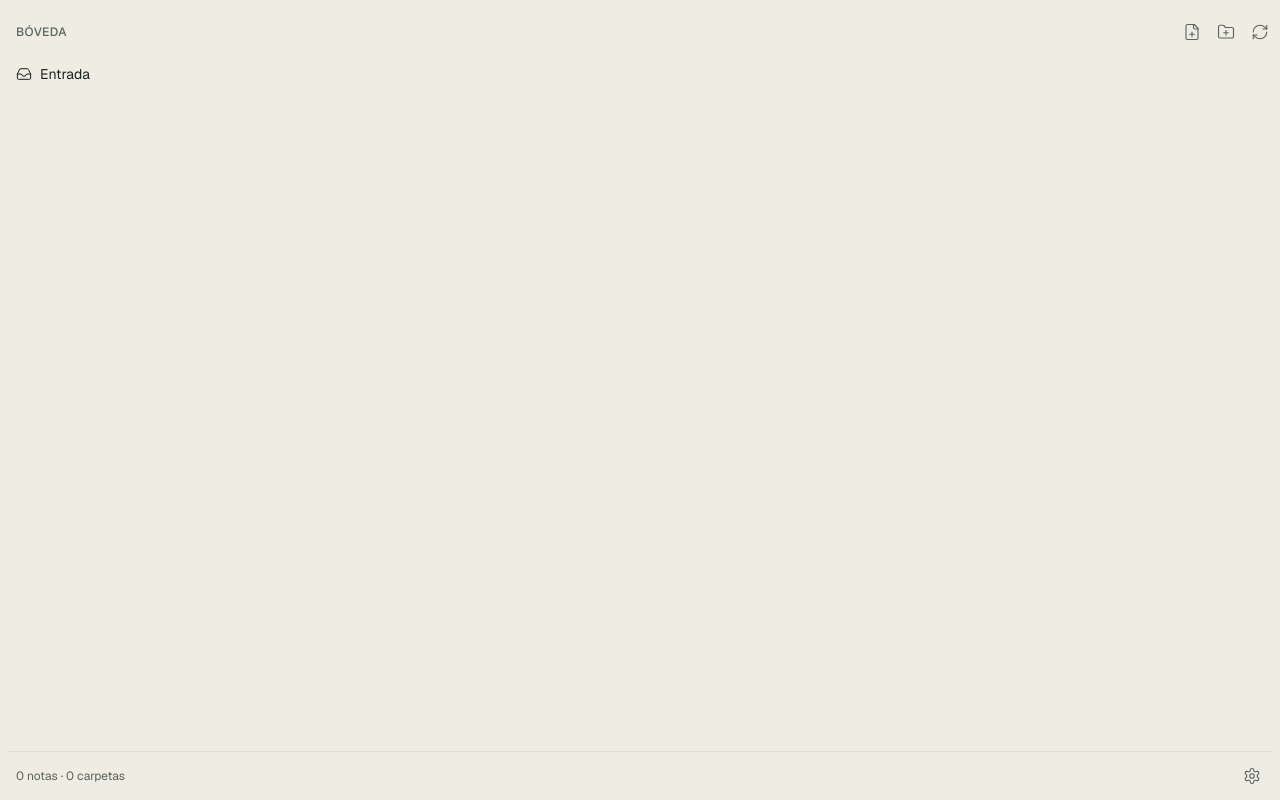
Test: creación de carpetas con nombre obligatorio › si el backend rechaza (already_exists), el diálogo muestra el error y sigue abierto
Step 1. Click the button with test id "new-folder-btn" → [1226, 32], box [1210,16,1242,48]
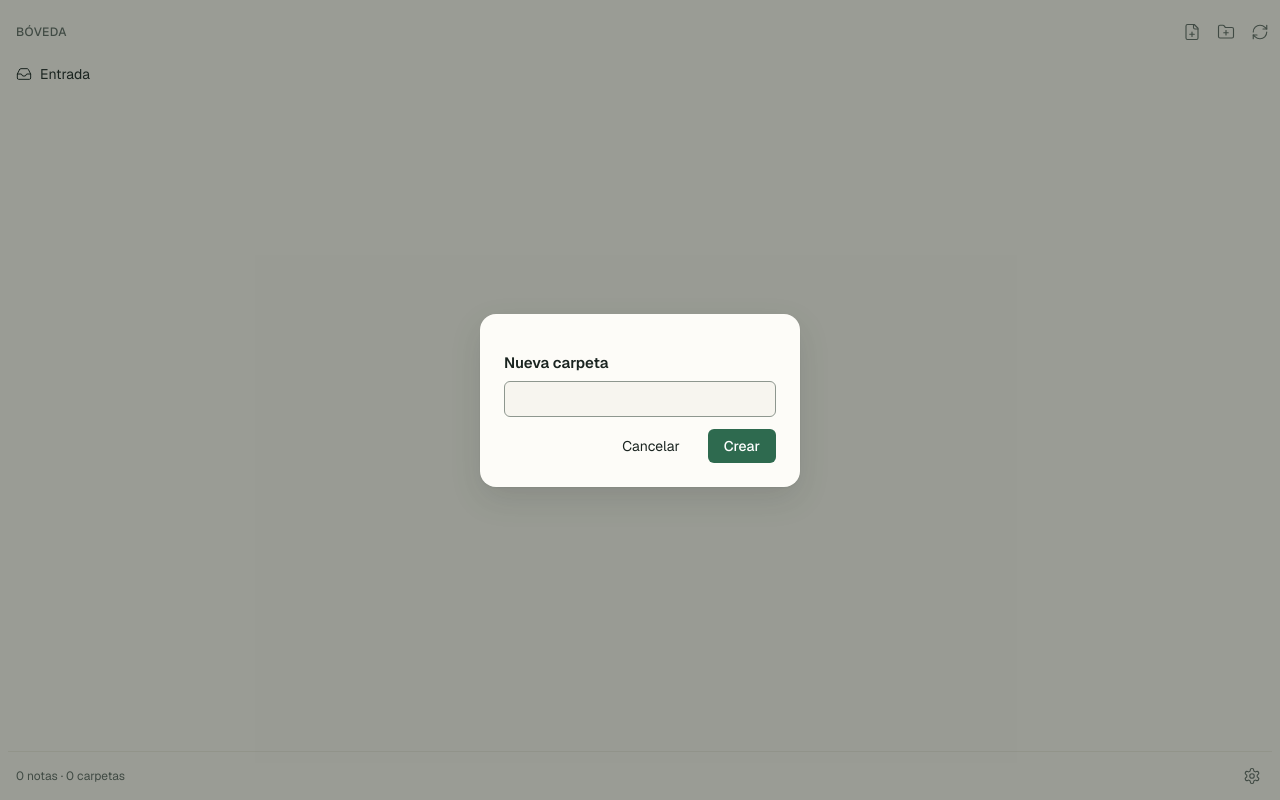
Step 2. Type "carpeta" into the field with test id "name-dialog-input" → [640, 398], box [504,380,776,416]
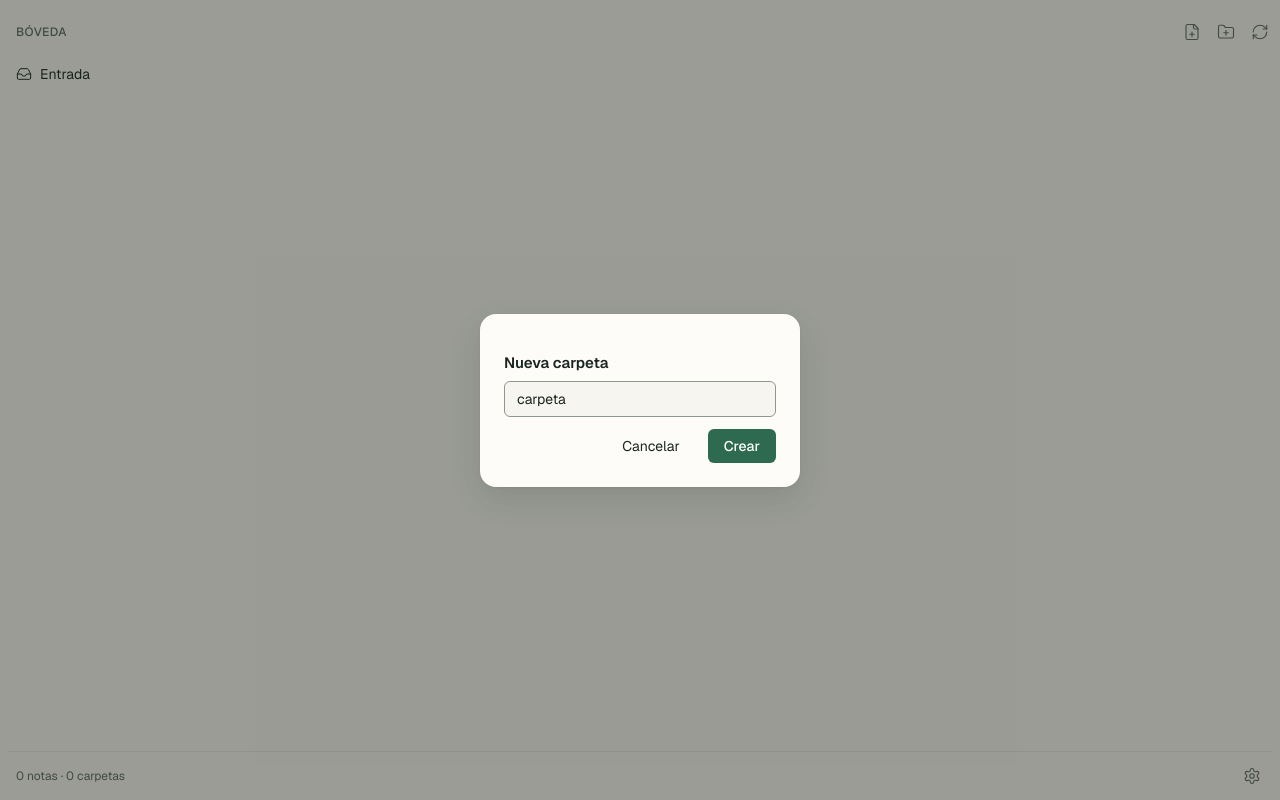
Step 3. Click the button with test id "name-dialog-submit" → [742, 446], box [708,428,776,462]
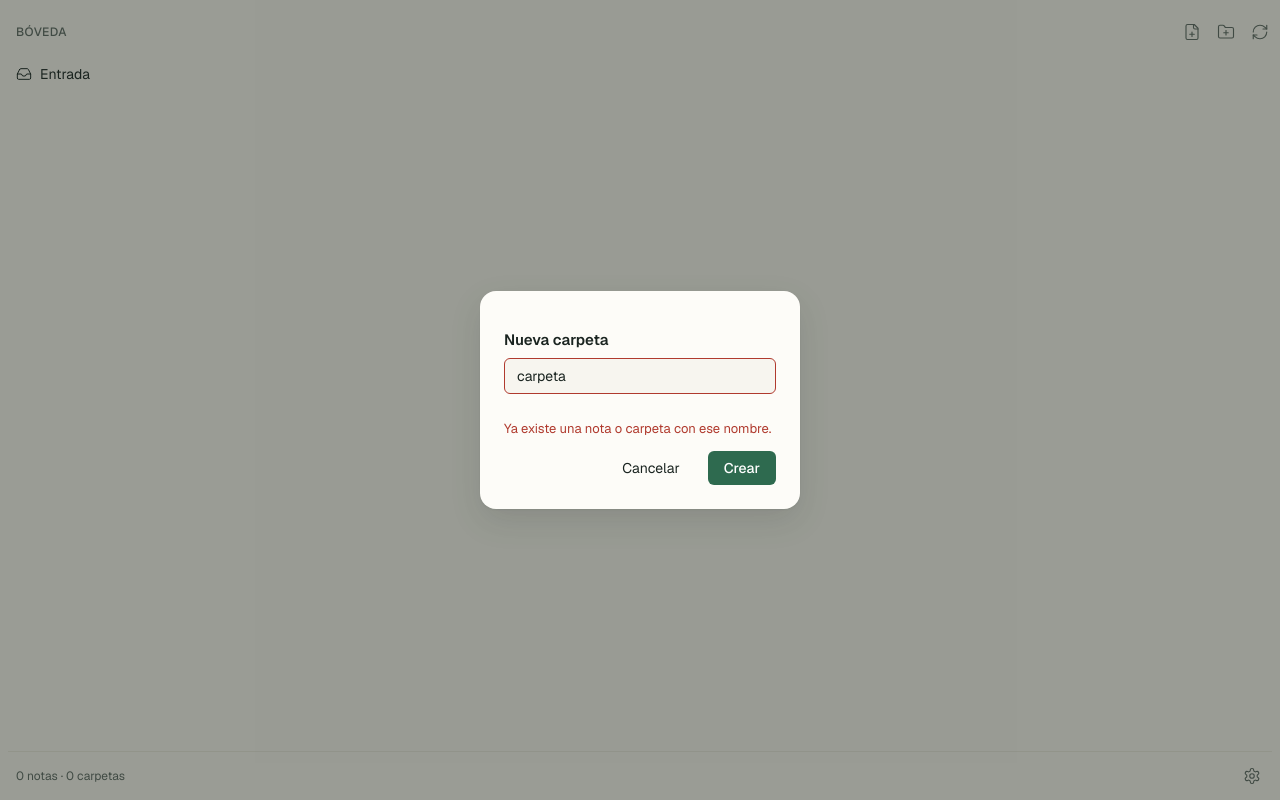
Expected: the element with test id "name-dialog-overlay" is shown
Expected: the message with test id "name-dialog-error" reads "Ya existe una nota o carpeta con ese nombre.", [504,420,771,437]
